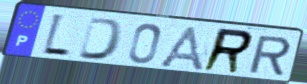0: (127, 22, 164, 66)
A: (155, 25, 207, 73)
D: (76, 16, 127, 62)
L: (40, 12, 73, 59)
R: (199, 27, 256, 76), (246, 35, 293, 77)
